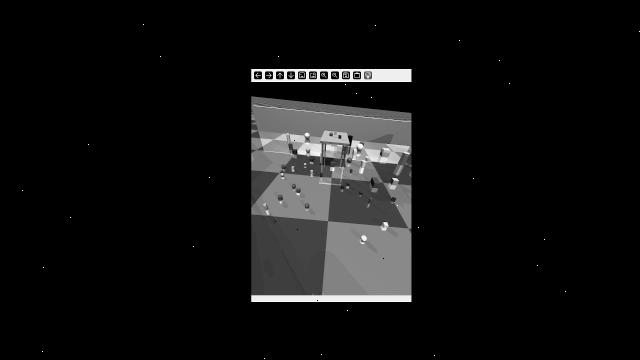cilindro: (398, 150, 411, 166), (347, 134, 353, 146), (262, 202, 270, 211), (276, 193, 284, 202), (285, 131, 290, 145), (360, 159, 367, 169), (318, 151, 322, 165), (288, 142, 294, 150), (368, 197, 374, 204), (280, 163, 287, 169), (391, 196, 397, 202), (310, 168, 314, 176), (310, 156, 315, 162), (341, 183, 345, 190), (333, 130, 338, 135), (338, 134, 342, 140), (343, 145, 346, 151), (320, 172, 323, 177)
cuadrado: (379, 145, 392, 159), (391, 176, 399, 186), (381, 220, 389, 229), (304, 132, 311, 139), (330, 161, 337, 168), (295, 187, 302, 193), (345, 181, 351, 187), (290, 165, 296, 171), (292, 149, 297, 154)
esfera: (358, 233, 370, 243), (303, 202, 311, 210), (357, 142, 364, 151), (346, 156, 353, 163), (358, 188, 364, 196), (291, 182, 296, 189), (305, 148, 311, 153), (303, 161, 308, 167), (349, 167, 354, 173), (329, 132, 334, 137), (365, 155, 369, 160), (281, 172, 284, 177)
rectangulo: (369, 175, 381, 190), (351, 147, 358, 155)
